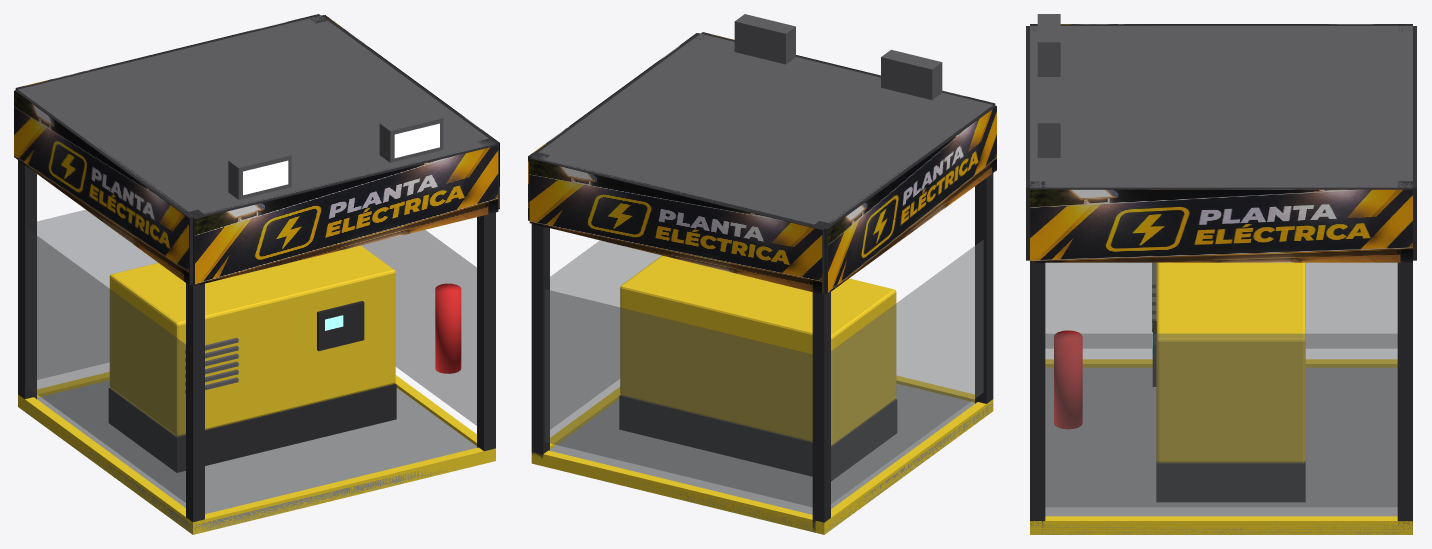
The model's file is obj_planta.glb.
3 renders of one model, left to right at view 1: azimuth 30°, elevation 25°; view 2: azimuth 150°, elevation 25°; view 3: azimuth 270°, elevation 25°, orthographic. The views are drawn at different scales.
Parts seen in each view (by area): view 1: planta_techo, gen_cuerpo, planta_malla_izq, planta_aviso_frente, planta_piso, planta_malla_atras, planta_aviso_izq, planta_malla_der, gen_chasis, planta_borde_x-1, planta_poste-1-1, planta_poste1-1 (+14 smaller); view 2: planta_techo, planta_malla_atras, gen_cuerpo, planta_malla_izq, planta_aviso_atras, planta_piso, planta_malla_der, planta_aviso_izq, gen_chasis, planta_borde_x1, planta_poste-11, planta_poste11 (+9 smaller); view 3: planta_malla_der, planta_techo, planta_piso, gen_cuerpo, planta_aviso_lado, planta_malla_izq, planta_borde_y1, gen_chasis, planta_poste11, planta_poste1-1, extintor, planta_borde_y-1 (+6 smaller).
Boxes of the visible parts, x1,y1,x2,y2 form: planta_techo: (18,16,495,215); gen_cuerpo: (109,245,395,436); planta_malla_izq: (28,229,185,502); planta_aviso_frente: (195,145,498,285); planta_piso: (18,380,476,533); planta_malla_atras: (37,210,157,379); planta_aviso_izq: (14,90,188,284); planta_malla_der: (361,230,476,425); gen_chasis: (108,383,396,472); planta_borde_x-1: (187,447,495,534); planta_poste-1-1: (186,209,204,522); planta_poste1-1: (477,138,495,450); planta_techo: (533,33,992,224); planta_malla_atras: (545,289,812,506); gen_cuerpo: (620,255,896,445); planta_malla_izq: (831,240,983,503); planta_aviso_atras: (529,159,822,294); planta_piso: (550,383,993,533); planta_malla_der: (550,240,661,429); planta_aviso_izq: (828,106,996,293); gen_chasis: (619,395,897,480); planta_borde_x1: (531,450,829,534); planta_poste-11: (812,221,830,532); planta_poste11: (531,152,549,458); planta_malla_der: (1045,333,1397,507); planta_techo: (1030,26,1412,187); planta_piso: (1030,367,1412,534); gen_cuerpo: (1156,262,1305,462); planta_aviso_lado: (1030,189,1412,262); planta_malla_izq: (1045,262,1397,348); planta_borde_y1: (1030,516,1412,534); gen_chasis: (1156,461,1305,502); planta_poste11: (1397,181,1412,528); planta_poste1-1: (1030,181,1045,527); extintor: (1054,330,1082,429); planta_borde_y-1: (1045,359,1397,367).
Bounding box in the file's own units: 2.05 × 2.22 × 2.05.
Materials: 10 (1 with a texture image).
